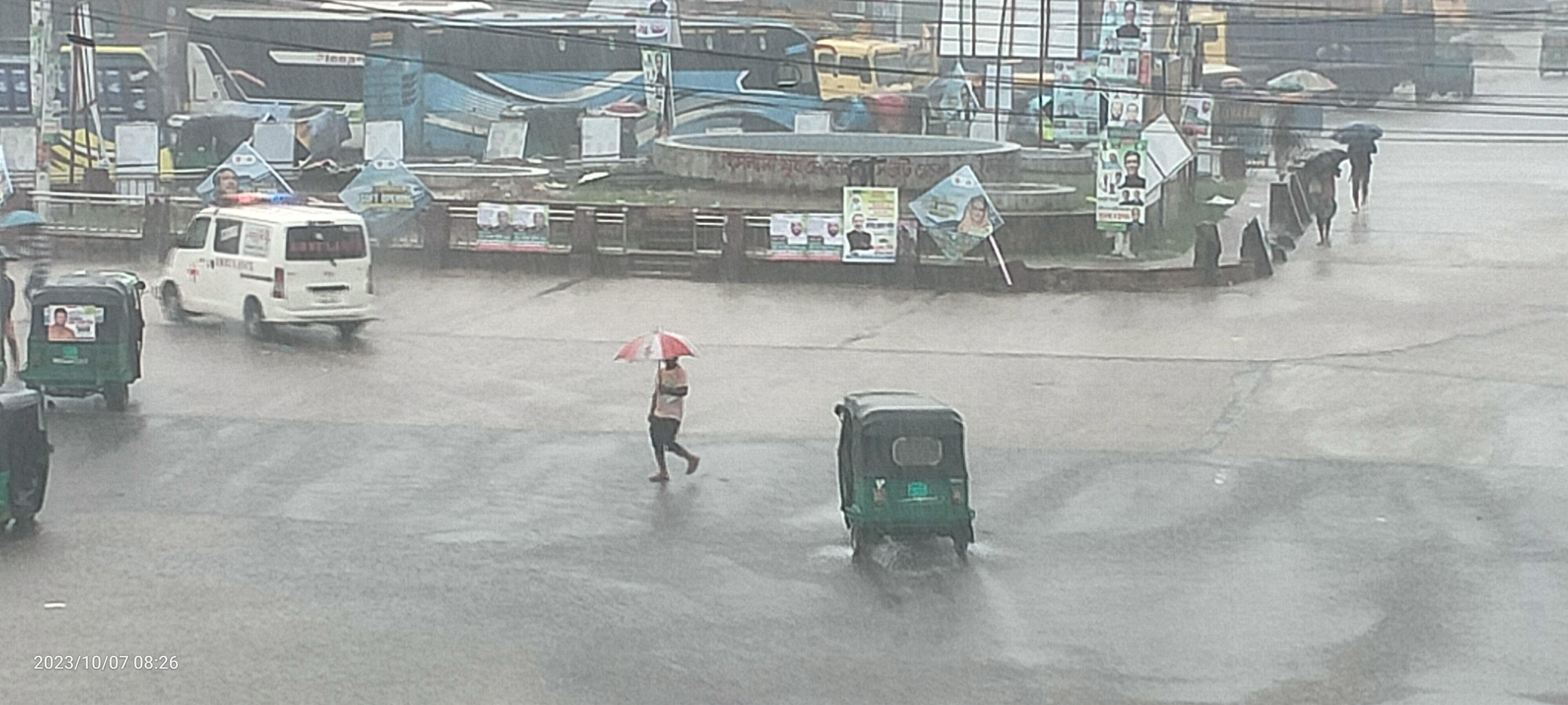Bus: (331, 5, 845, 212), (0, 19, 210, 232), (162, 0, 428, 158)
Car: (129, 177, 390, 381)
Truck: (1148, 0, 1458, 139), (814, 13, 944, 150)
